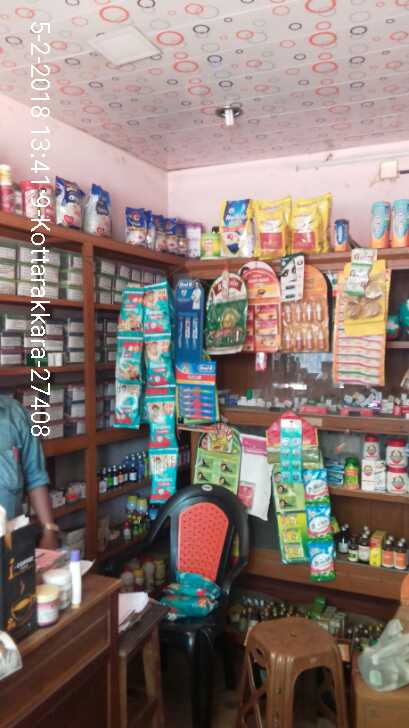pharmacy: (143, 397, 178, 449), (144, 342, 179, 391), (149, 450, 175, 506), (143, 287, 170, 336), (114, 380, 141, 428), (117, 337, 145, 379), (118, 290, 145, 330)
